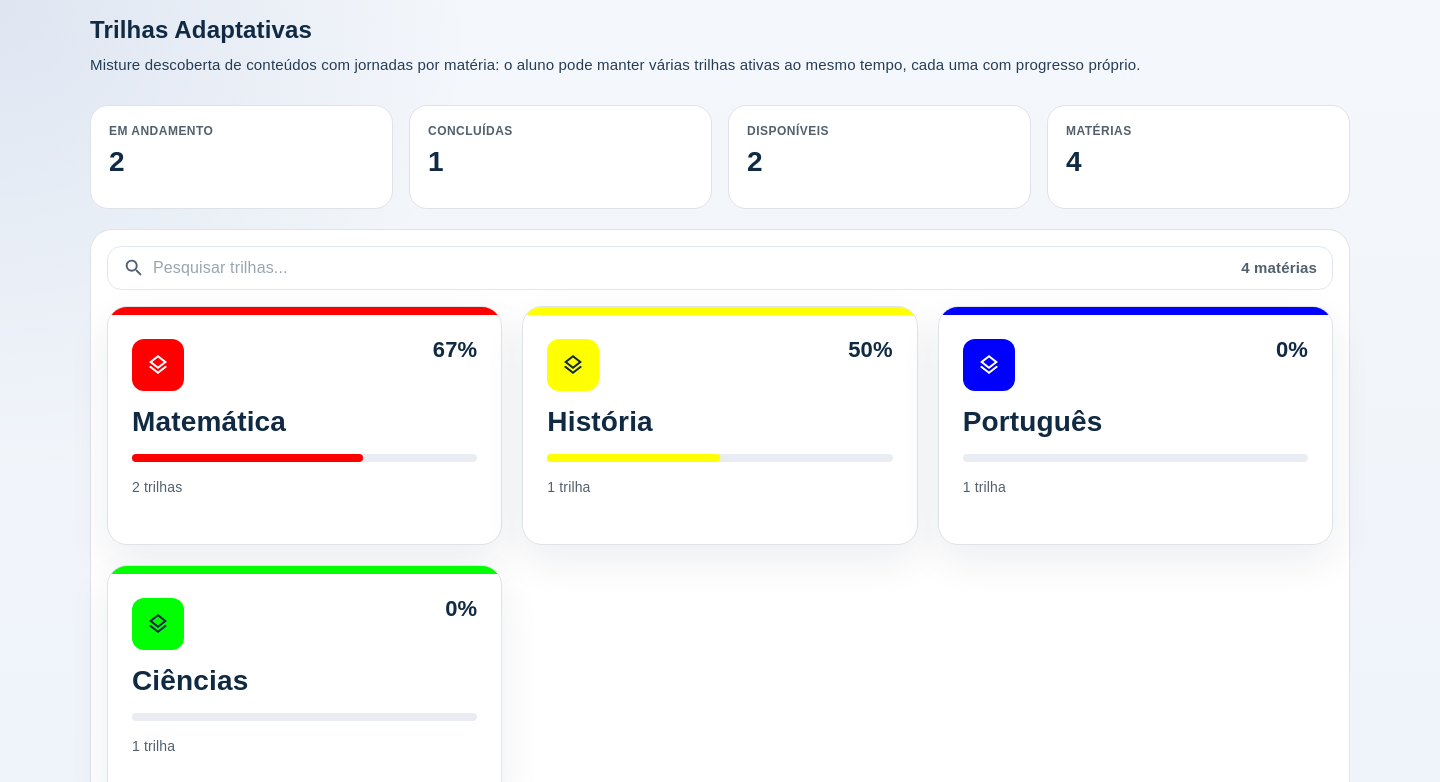
StudentAdaptiveTrailPage searches by subject name
The width and height of the screenshot is (1440, 782).
Type "português" into the search field with placeholder "Pesquisar trilhas...". click: (693, 268)
box: [153, 251, 1233, 284]
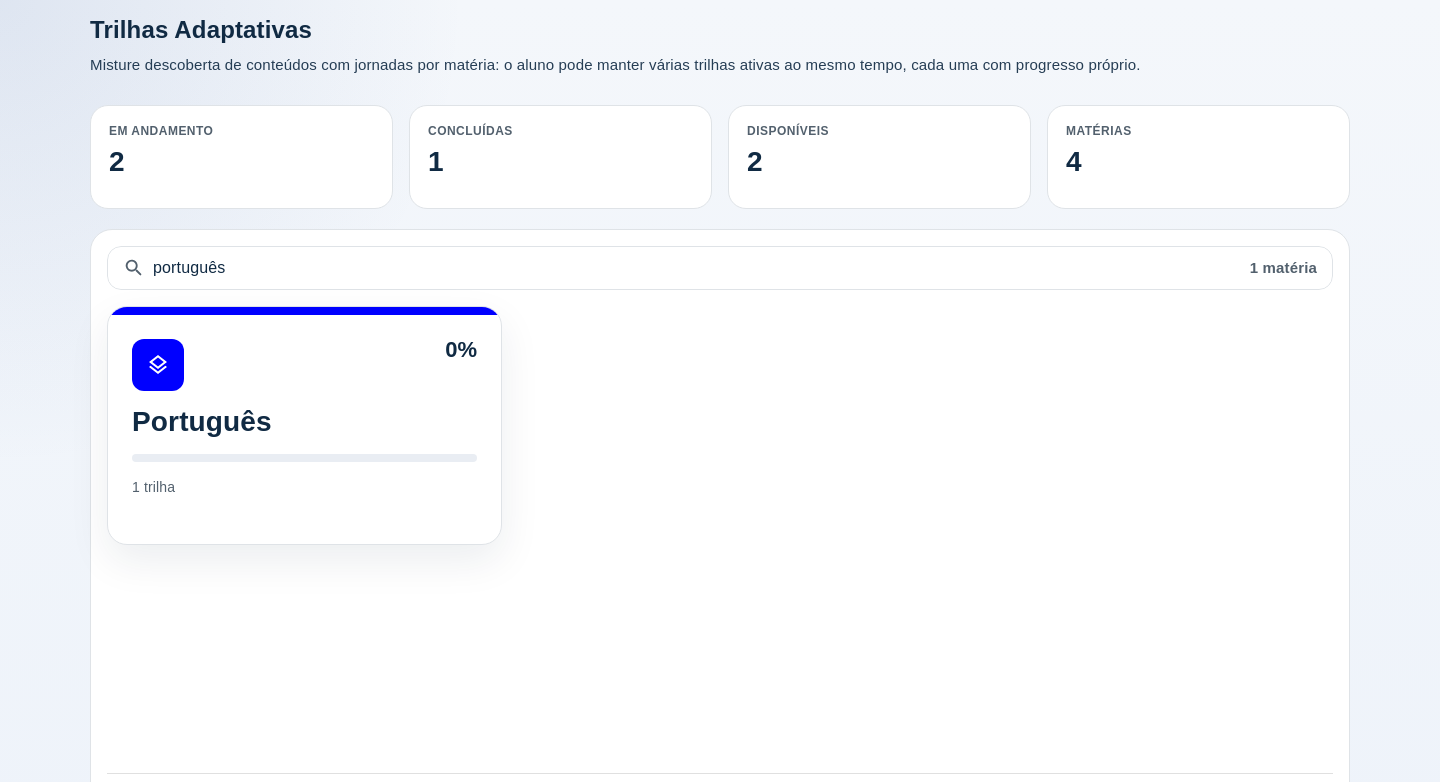
Expected: the text "Português" is shown, [132, 406, 272, 437]
Result: the link "Matemática" is gone
Result: the text "1 matéria" is shown at [1250, 256, 1317, 280]
